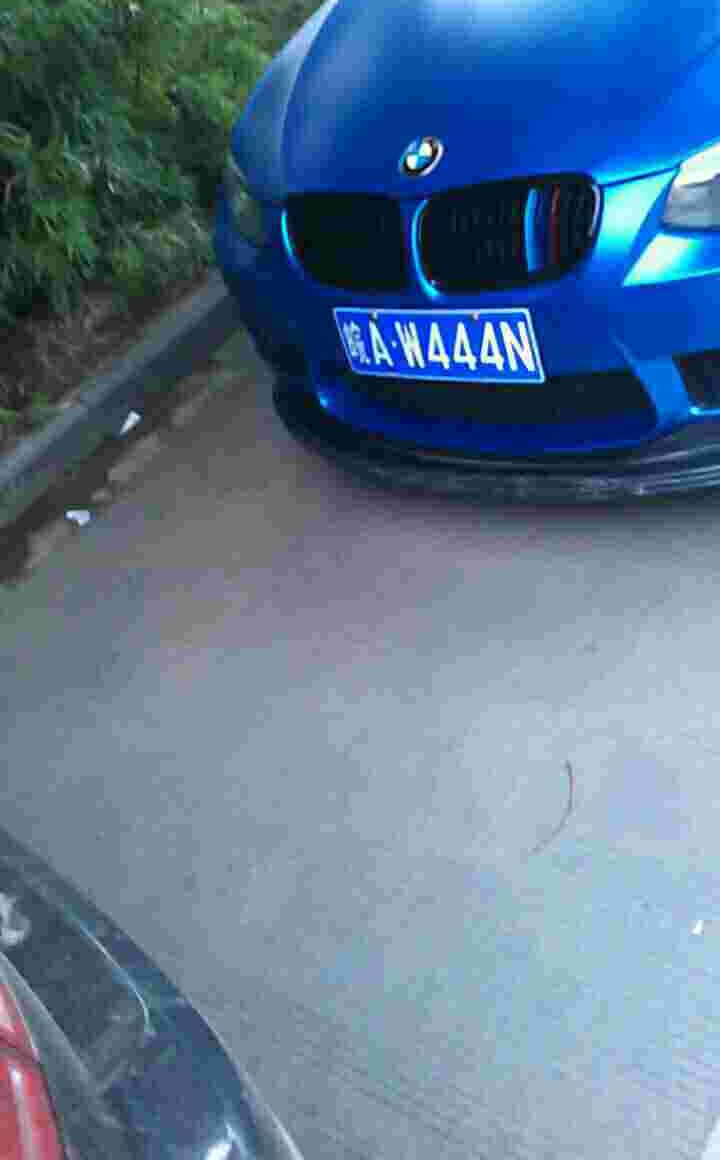license_plate: (348, 314, 537, 396)
